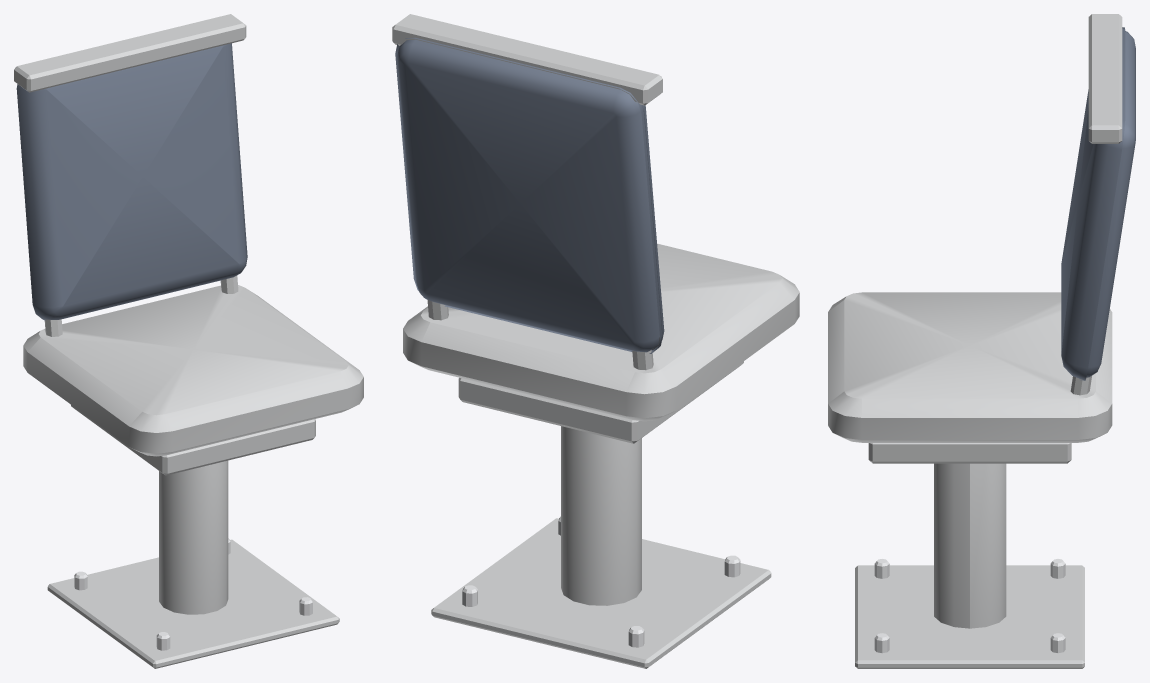
The model's file is delegacia_cadeira_interro.glb.
3 renders of one model, left to right at view 1: azimuth 30°, elevation 25°; view 2: azimuth 150°, elevation 25°; view 3: azimuth 270°, elevation 25°, orthographic. The views are drawn at different scales.
Parts seen in each view (by area): view 1: interrogation-chair-fixed; view 2: interrogation-chair-fixed; view 3: interrogation-chair-fixed.
Part boxes in pixels (<box>): interrogation-chair-fixed: <box>14,14,363,668</box>; interrogation-chair-fixed: <box>392,14,799,668</box>; interrogation-chair-fixed: <box>828,14,1135,668</box>.
Size of the model in its own units: 0.4199 by 0.9 by 0.4551.
